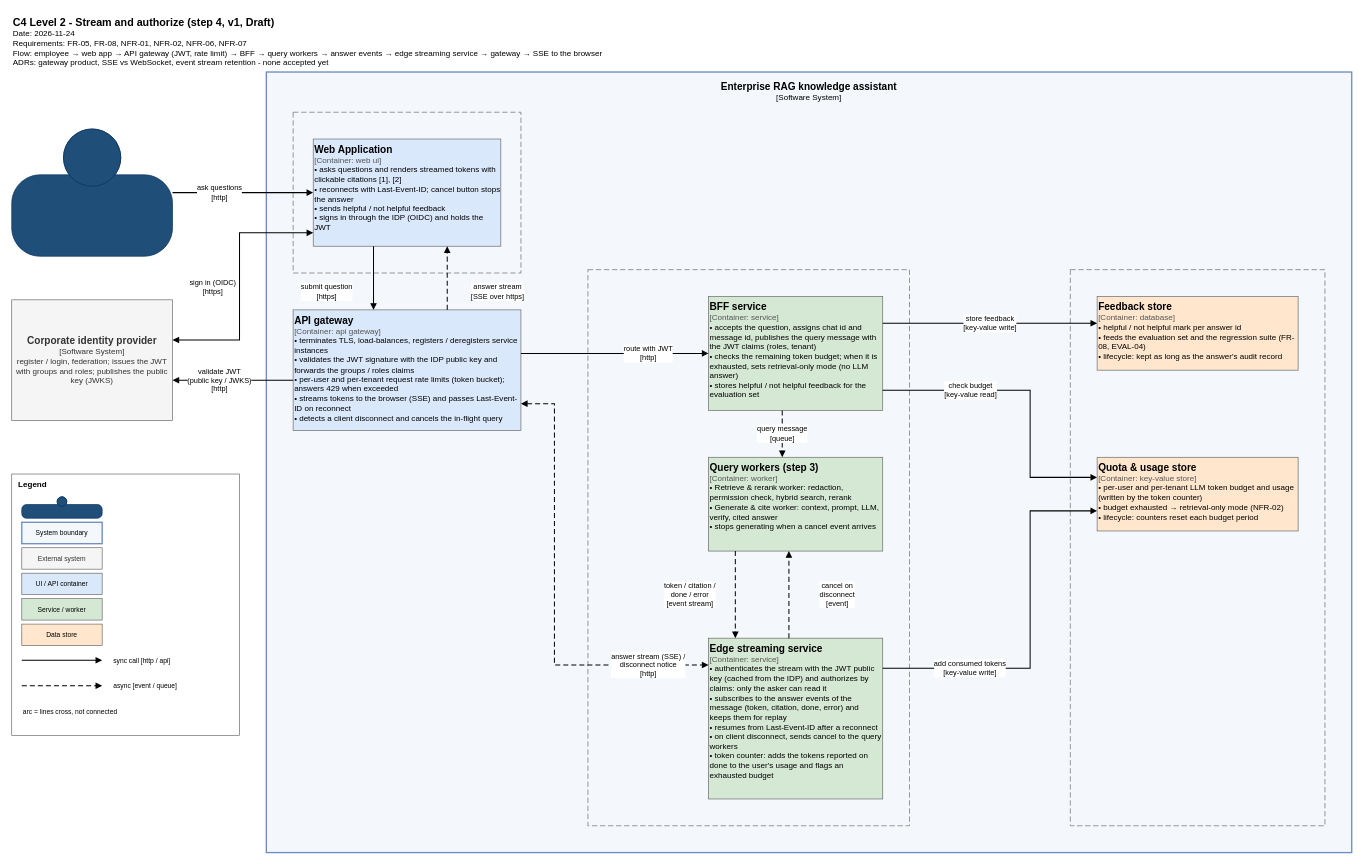
This 1364x864 diagram has some shape labels left out. Here are the shapes that lost their labels. From the top down, the box of each, then its label:
(11, 128, 173, 256): Employee [Person] • asks questions about policies, contracts and regulations
(292, 112, 521, 273): Representation
(21, 496, 102, 518): Person
(587, 269, 910, 826): Backend
(1070, 269, 1325, 826): Repositories (DBs)
